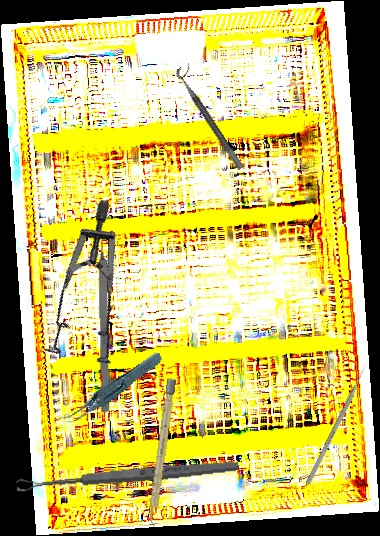Fixation Ring: (173, 62, 253, 171)
Hook Surgical: (97, 222, 111, 413)
Pusher: (305, 359, 371, 486)
Scalpel Handle: (146, 378, 177, 527)
Speculum: (0, 195, 192, 390)
Surgical Spoon: (15, 458, 240, 493)
Tissue Forceps: (49, 351, 172, 426)
